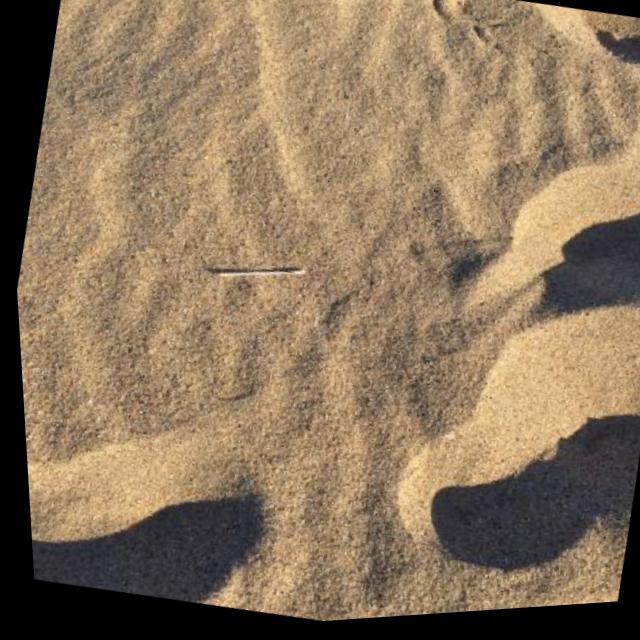plastic: (217, 252, 305, 294)
